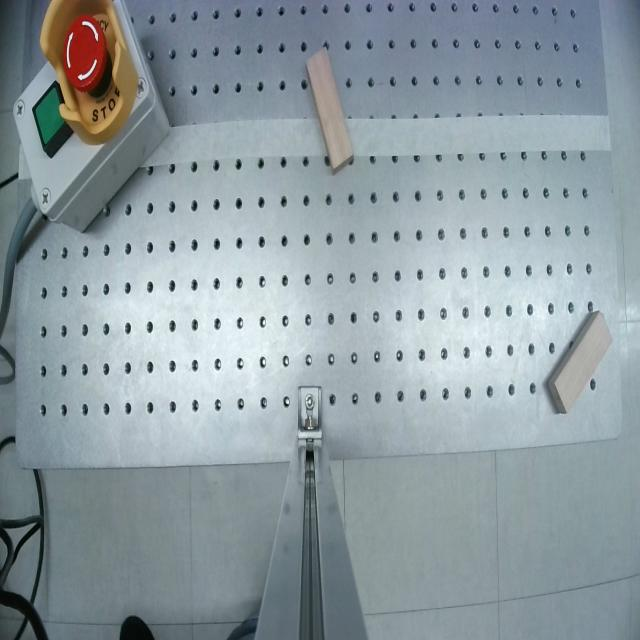wood: (544, 313, 622, 415), (304, 47, 355, 171)
